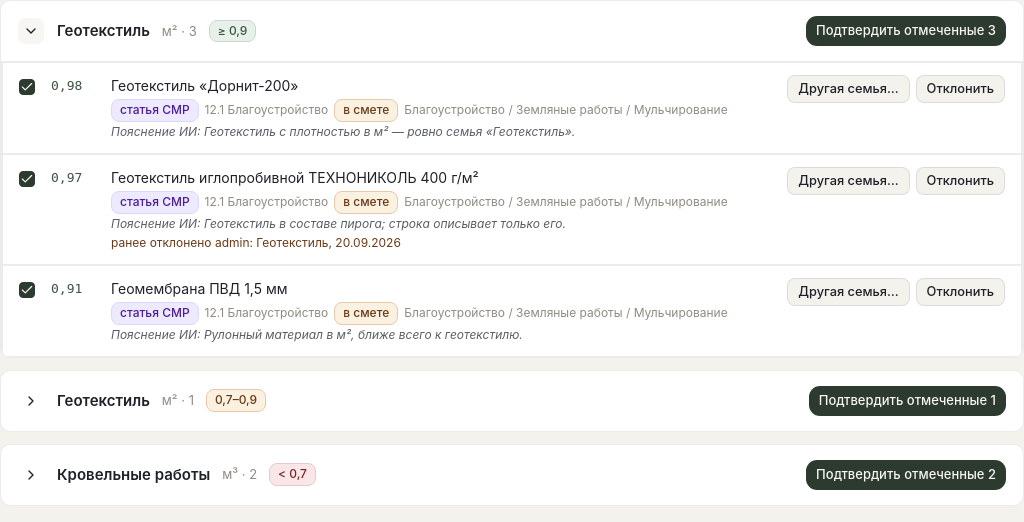
Test case: SuggestionGroups — отметки и «Подтвердить отмеченные N» › со всех строк снята отметка — подтверждать нечего, кнопка недоступна
The width and height of the screenshot is (1024, 522).
Step 1. Click the checkbox named "Отметить строку" next to "0,98" → (27, 87), box [19,79,35,95]
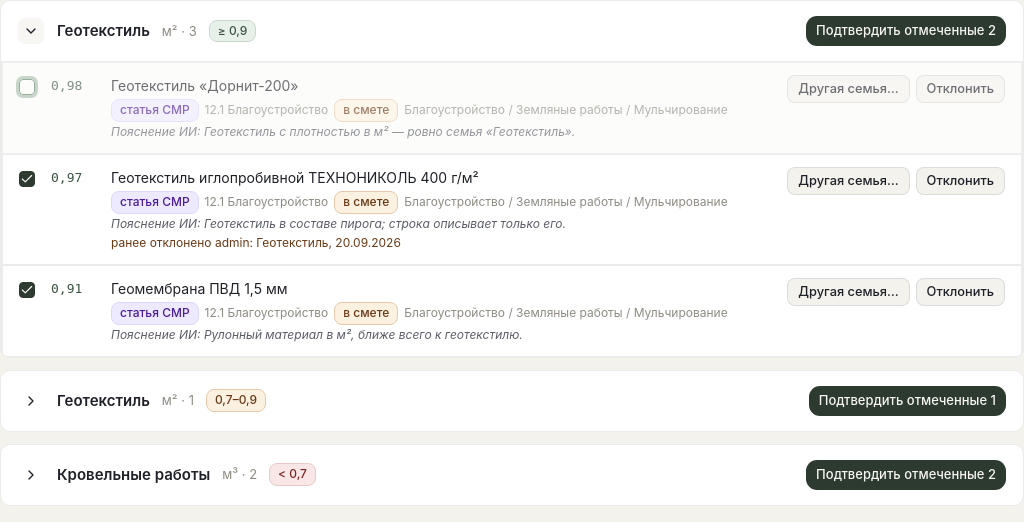
Step 2. Click the checkbox named "Отметить строку" next to "0,97" → (27, 179), box [19,171,35,187]
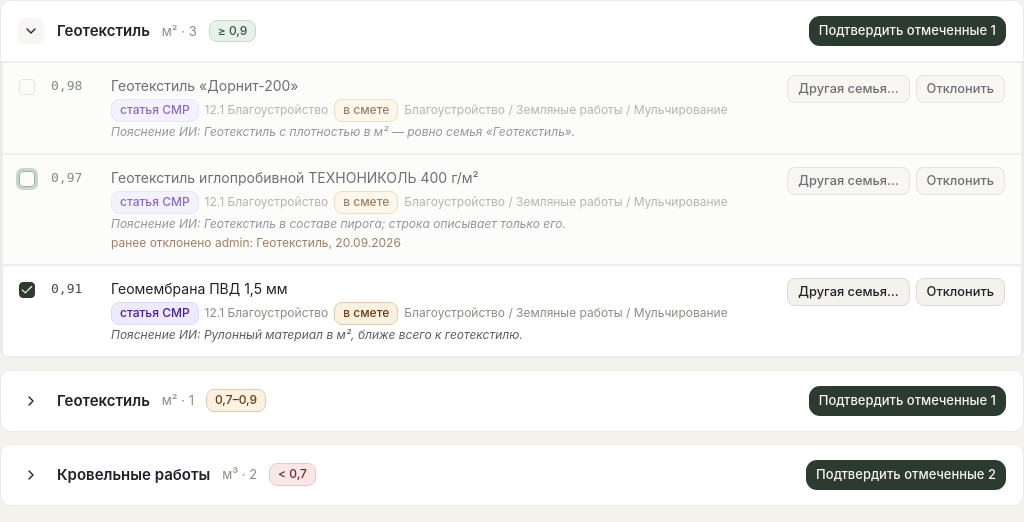
Step 3. Click the checkbox named "Отметить строку" next to "0,91" → (27, 290), box [19,282,35,298]
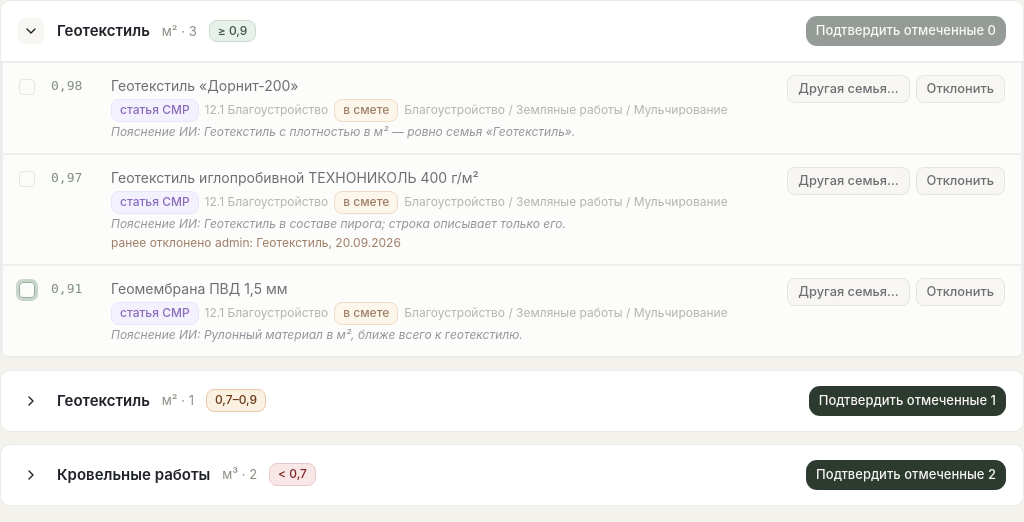
Expected: the button "Подтвердить отмеченные 0" is disabled, [805,15,1007,47]
